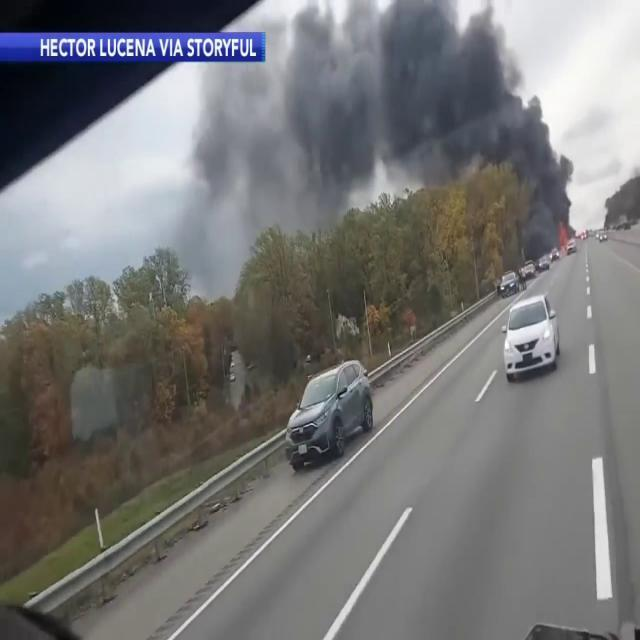Smoke: (284, 0, 572, 236)
